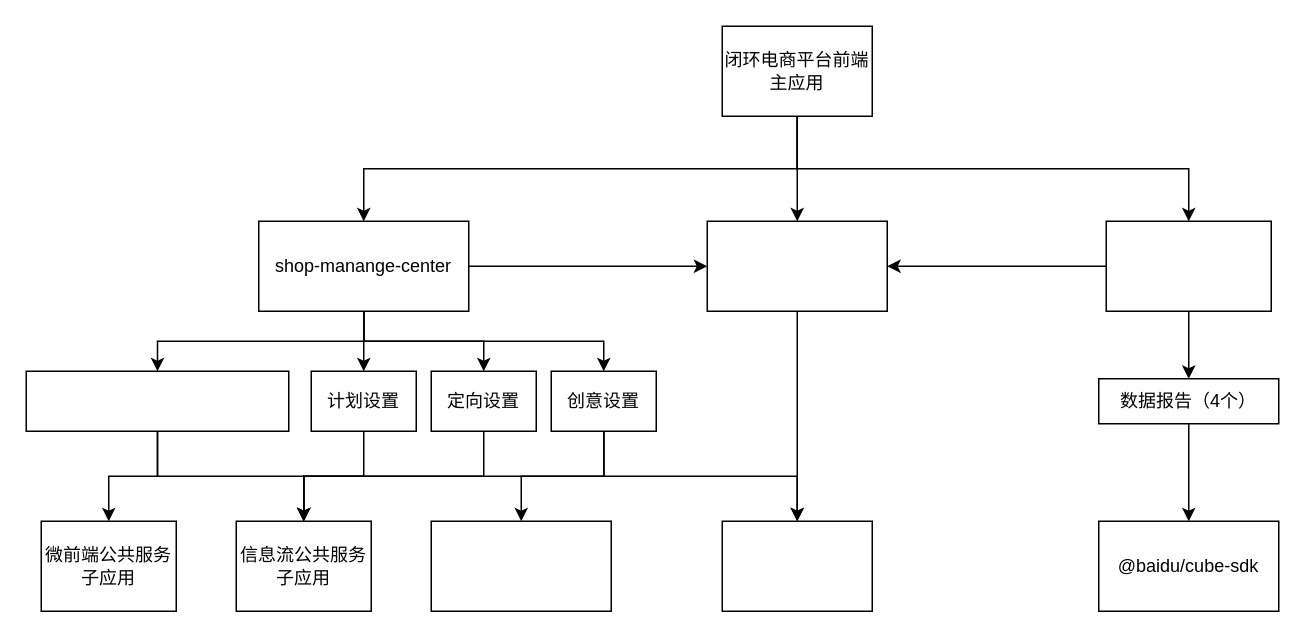
This 1305x638 diagram has some shape labels left out. The centre of each missing label's shape, as x and y in pixels:
"@baidu/feed-preview" goes at (x=520, y=565).
"shop-common-libs" goes at (x=796, y=265).
"shop-data-center" goes at (x=1188, y=265).
"推广管理列表（计划 + 创意）" goes at (x=157, y=400).
"组件库、图片库、视频库等依赖" goes at (x=796, y=565).
